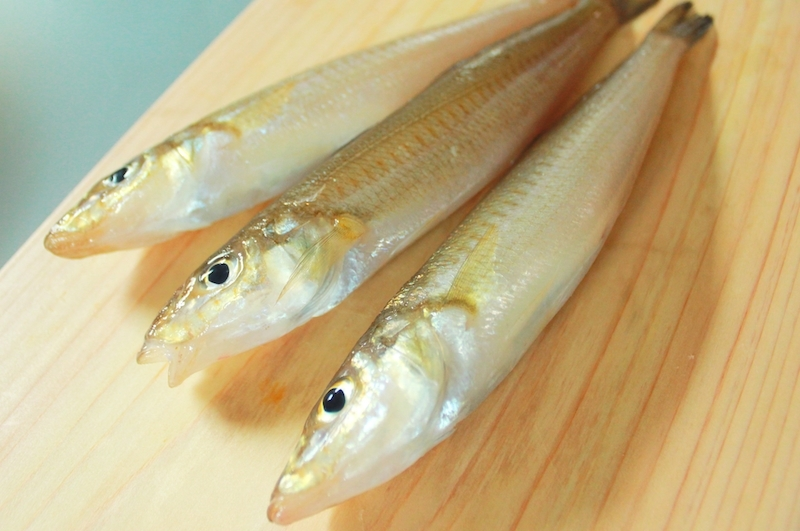kiss: (35, 1, 712, 522)
